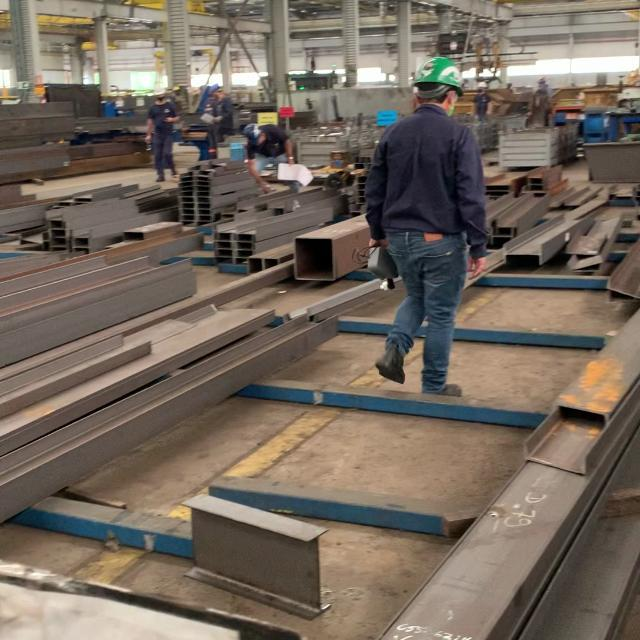helmet: (415, 58, 469, 104)
person: (367, 55, 486, 396)
safety-shoe: (375, 341, 407, 383), (430, 385, 464, 394)
